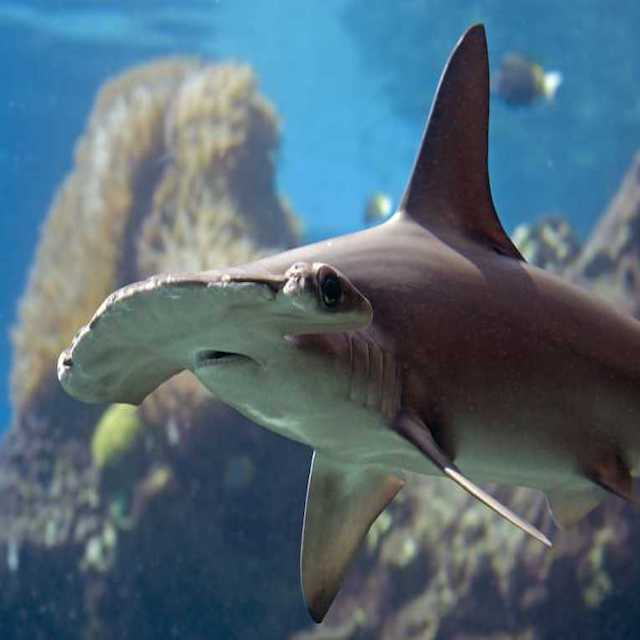hammerhead: (51, 22, 640, 623)
